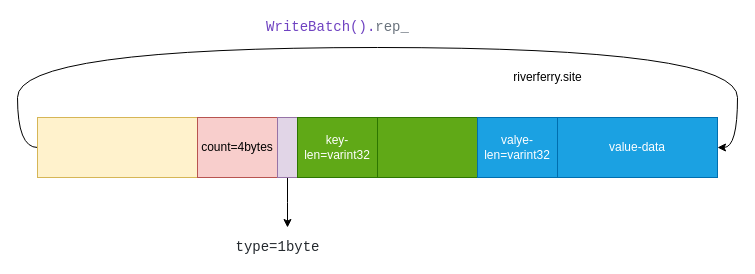
Image size: 755x274. Some labels were removed from this diagram. The centre of each missing label's shape, as x and y in pixels:
"key-data" belongs at point (427, 147).
"seq=8bytes" belongs at point (117, 147).
